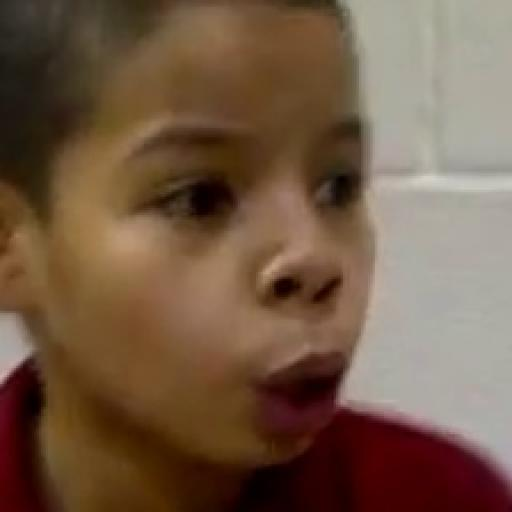Autism: (2, 26, 434, 469)
